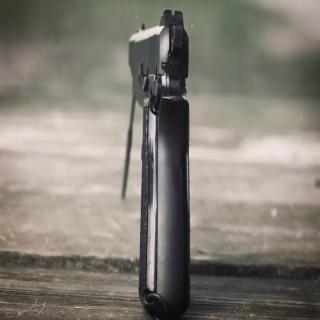gun: (117, 3, 195, 316)
